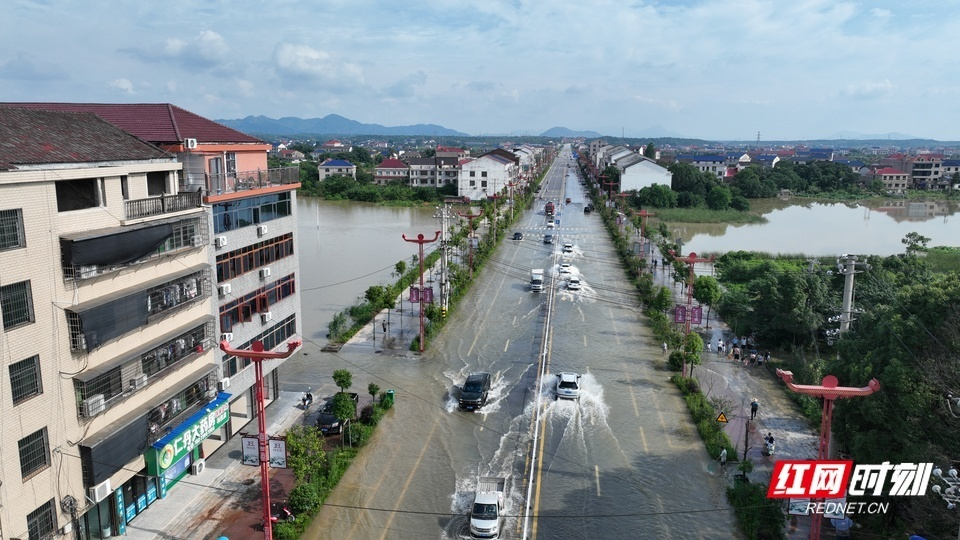puddle: (452, 225, 687, 540)
